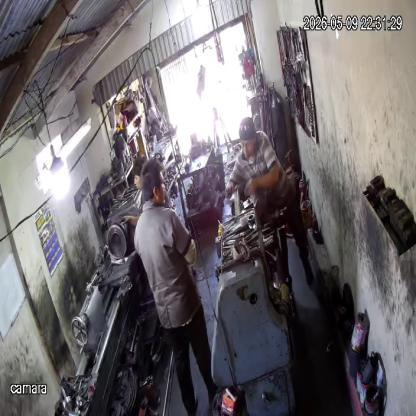sin_lentes: (237, 138, 255, 152)
